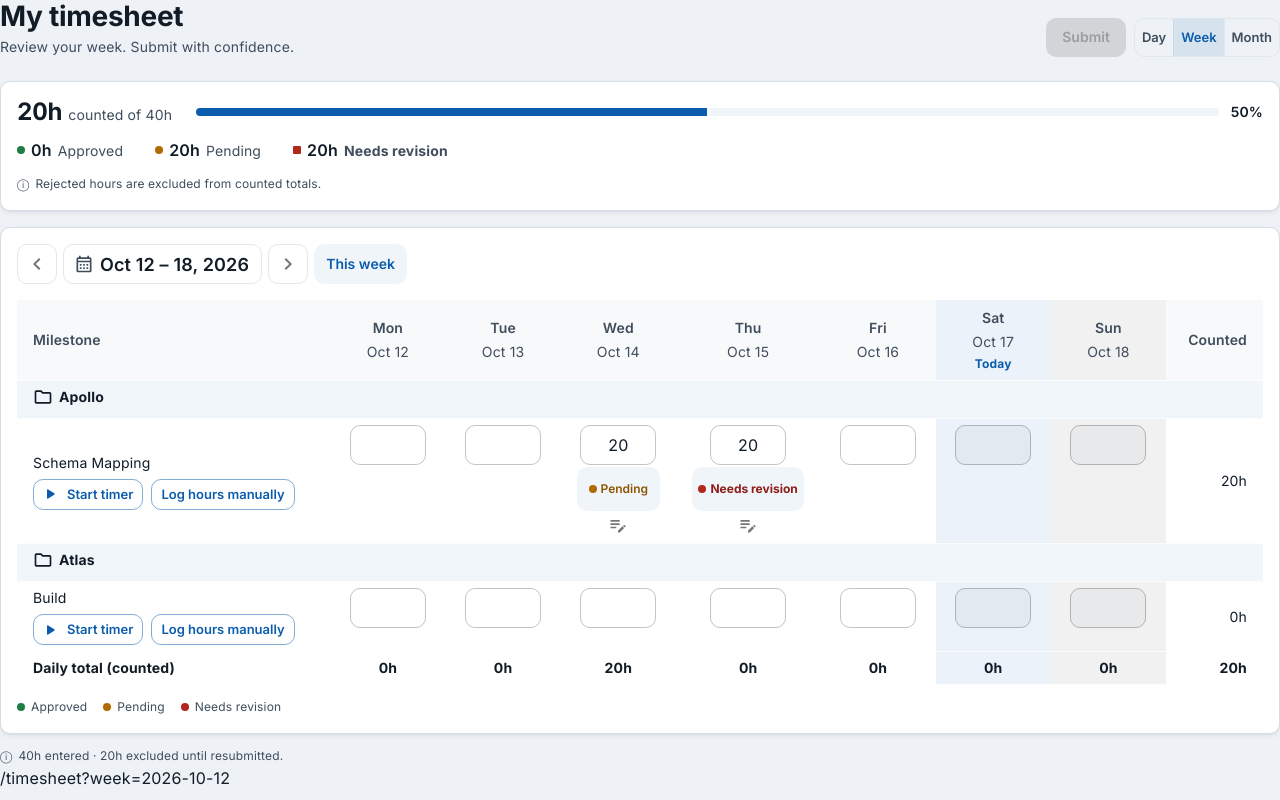
Test: Timesheet rules › saved hours on another milestone count toward the day; rejected ones do not
Type "10" into the field named "Build, Thu Oct 15" at (748,608), box [710,588,786,628]
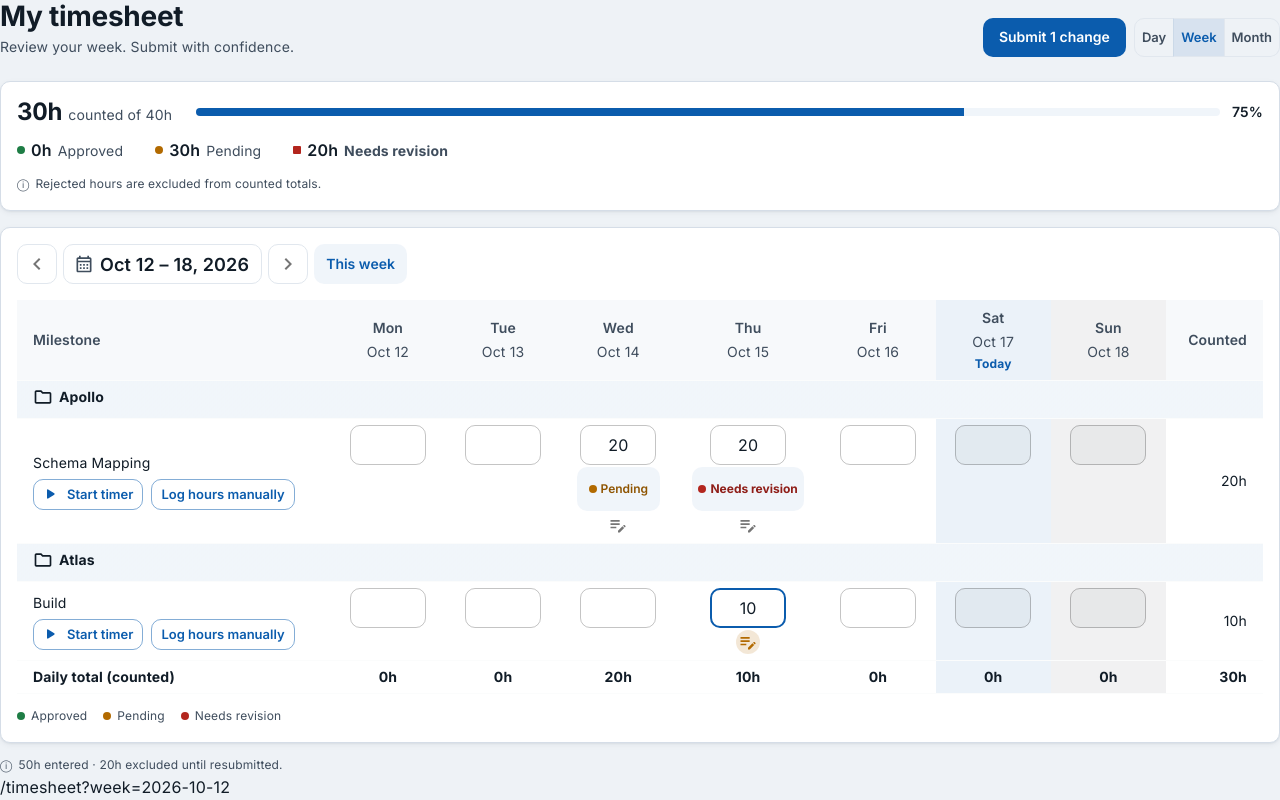
Expected: the text "more than 24h" is not shown
Type "5" into the field named "Build, Wed Oct 14" at (618,608), box [580,588,656,628]
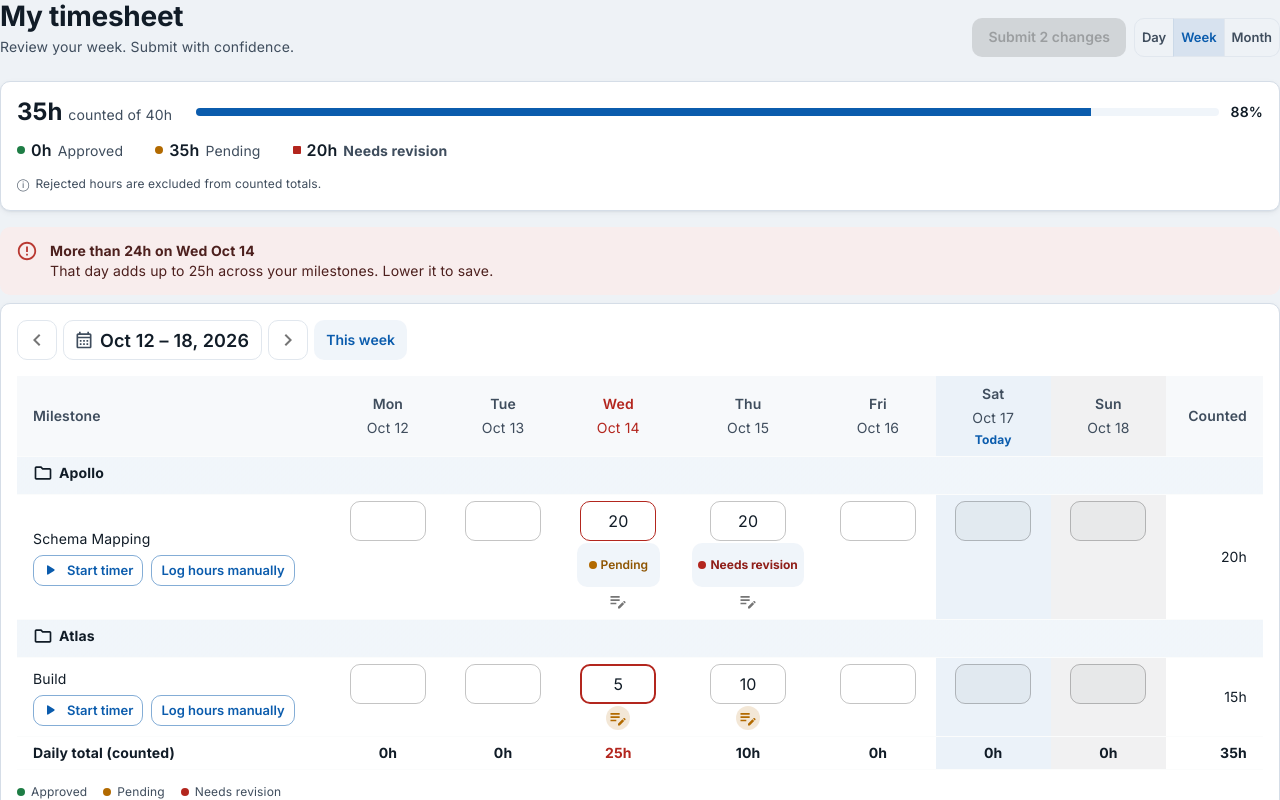
Now the text "More than 24h on Wed Oct 14" is shown, box [50,242,255,259]
